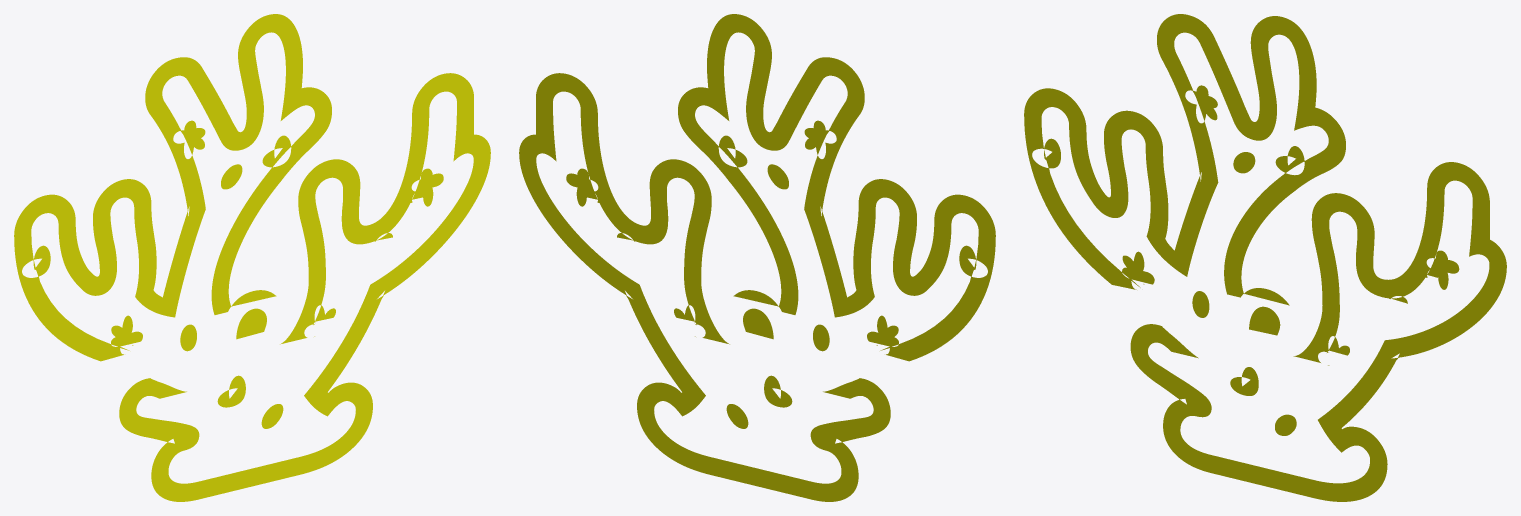
Rendered from coral_model.glb.
3 views of the same model, side by side, from view 1: azimuth 30°, elevation 25°; view 2: azimuth 150°, elevation 25°; view 3: azimuth 330°, elevation 25° (orthographic).
Parts seen in each view (by area): view 1: Text.525_525; view 2: Text.525_525; view 3: Text.525_525.
Part boxes in pixels (x1,y1,x2,y2): Text.525_525: (14,14,490,501); Text.525_525: (519,14,995,501); Text.525_525: (1024,14,1506,501).
Bounding box in the file's own units: 1.08 × 1.02 × 3.6e-06.
